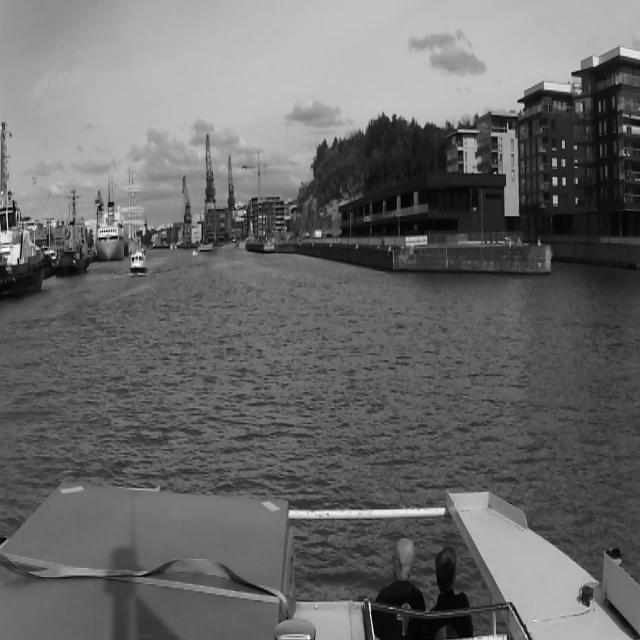ship: (0, 118, 44, 308), (57, 186, 89, 276), (120, 173, 144, 251), (96, 203, 124, 260), (130, 251, 145, 273), (192, 247, 198, 258)
